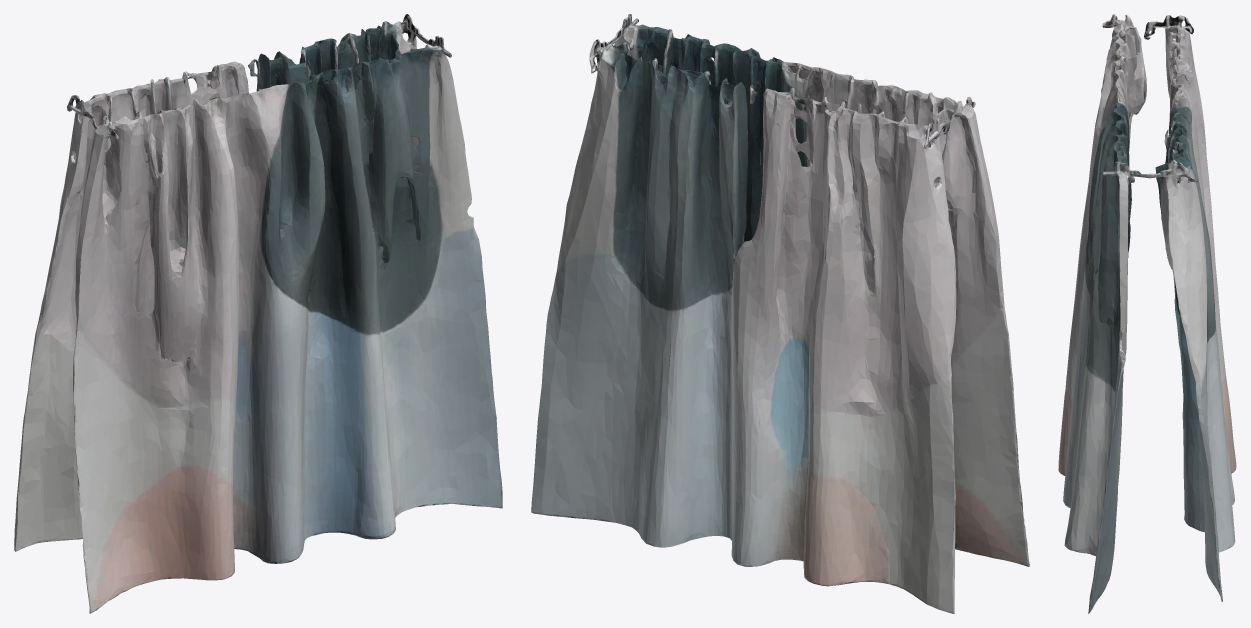
Rendered from 37138651-21c9-4f35-a0d7-914f05c8afe4.glb.
3 views of the same model, side by side, from view 1: azimuth 30°, elevation 25°; view 2: azimuth 150°, elevation 25°; view 3: azimuth 270°, elevation 25° (orthographic). The views are drawn at different scales.
Visible parts, largest first — view 1: world; view 2: world; view 3: world.
Part boxes in pixels (x1,y1,x2,y2): world: [14, 14, 502, 613]; world: [531, 14, 1029, 613]; world: [1058, 14, 1236, 613].
Size of the model in its own units: 0.9171 by 0.9828 by 0.3668.
1 material, 1 textured.
